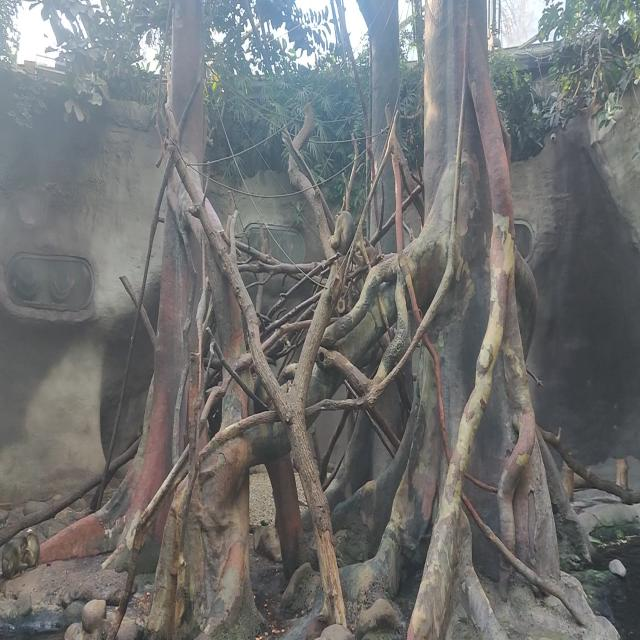monkey: (328, 210, 356, 256), (0, 536, 28, 580), (21, 532, 40, 574), (354, 236, 378, 268)
